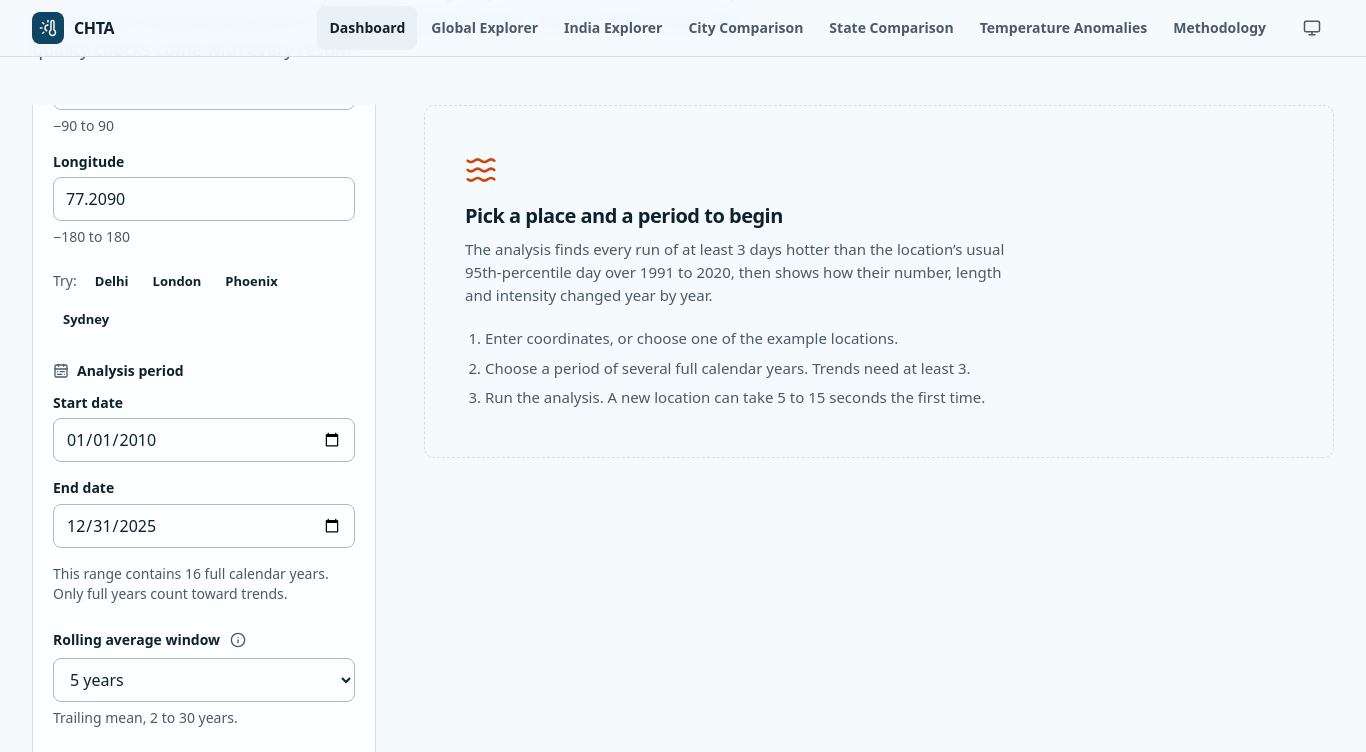
Test: form validation › warns when the range has too few full years for a trend
(page scrolled)
Type "2024-03-01" into the date field labelled "Start date" at (204, 440), box left=53, top=418, right=355, bottom=462
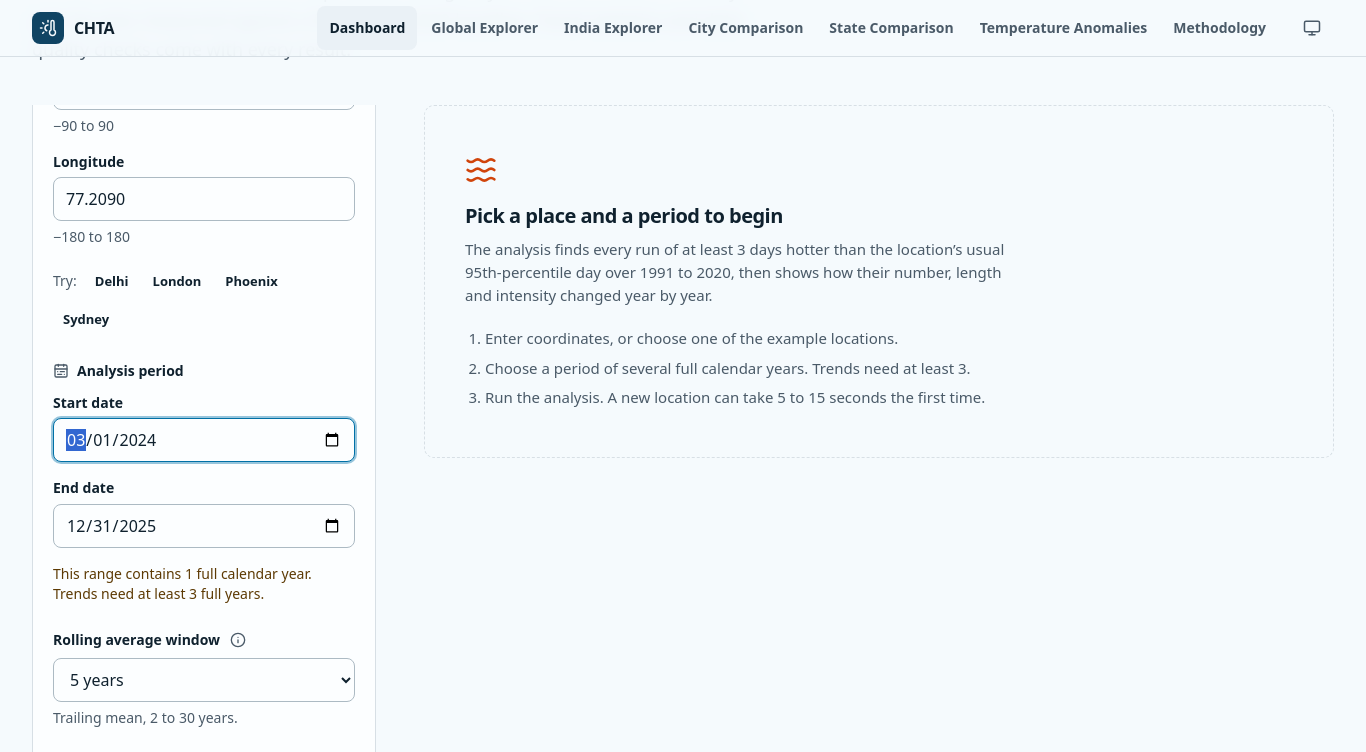
Expected: the text "contains 1 full calendar year" shows "Trends need at least 3 full years.", left=53, top=584, right=264, bottom=602
